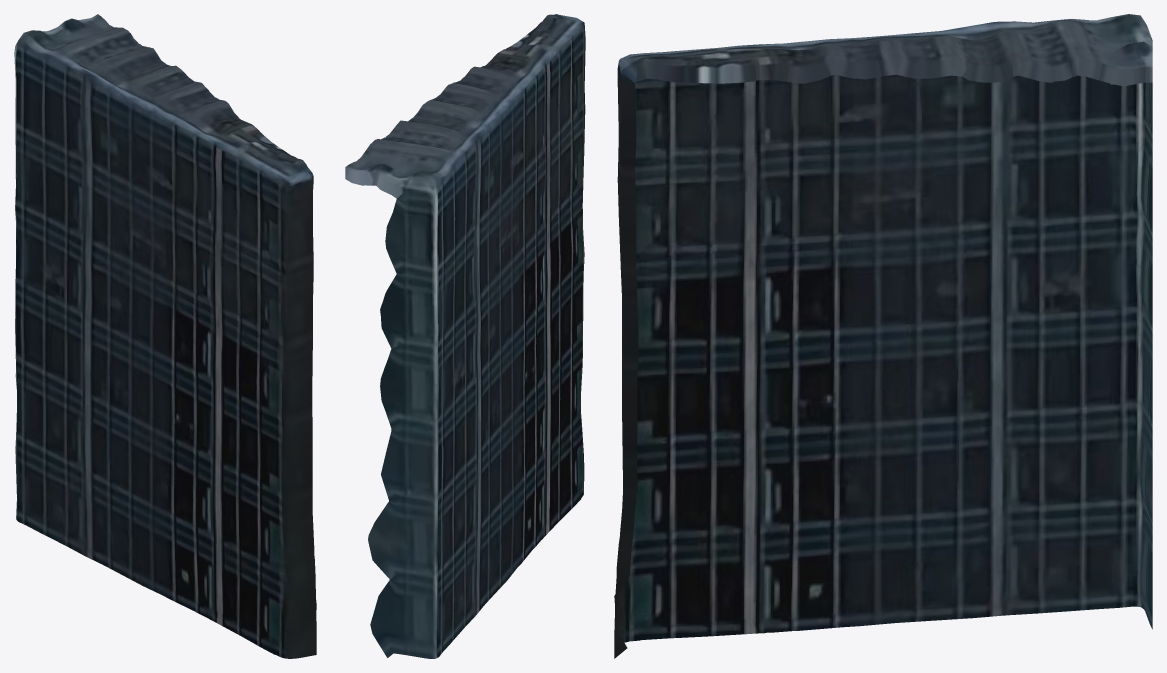
Rendered from z20-167762-405237-h1-yup-uvflip-v3-world.glb.
The picture shows the model from 3 angles, left to right: view 1: azimuth 30°, elevation 25°; view 2: azimuth 150°, elevation 25°; view 3: azimuth 270°, elevation 25°; orthographic projection. The views are drawn at different scales.
Size of the model in its own units: 4.6 by 24.64 by 19.76.
1 material, 1 textured.
